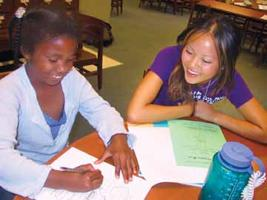person: (2, 10, 139, 198)
